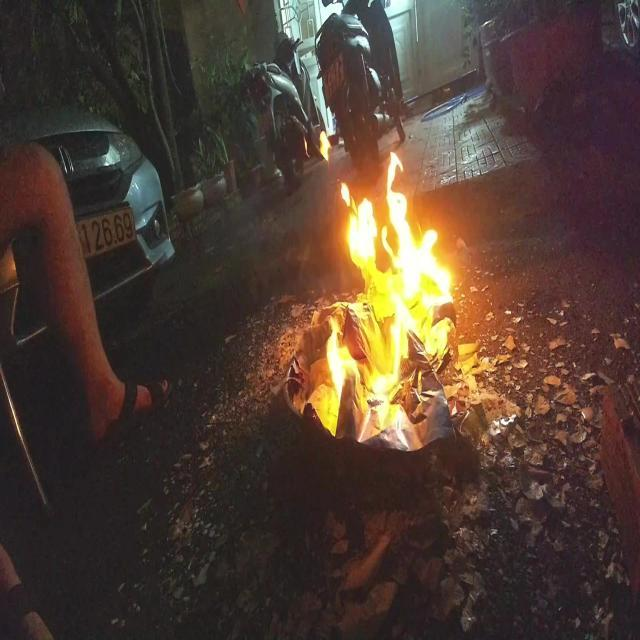Fire: (293, 127, 456, 448)
